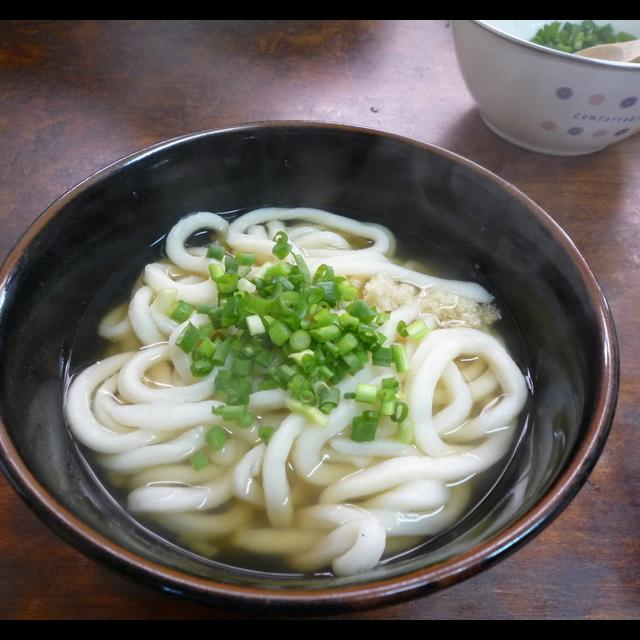noodles: (67, 205, 529, 577)
